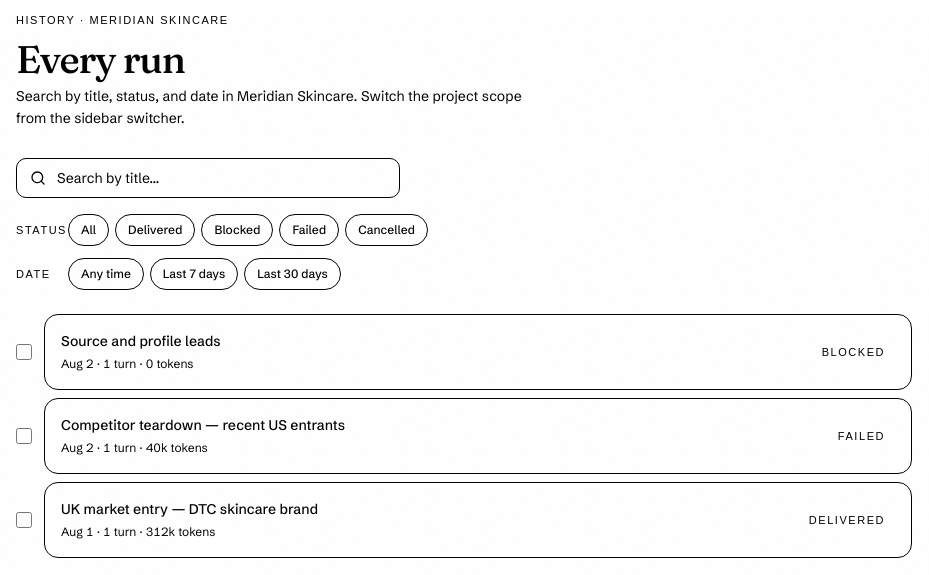
Test: HistoryPage › filters by status
Click the radio button labelled "Blocked": point(238, 230) [202, 214, 274, 246]
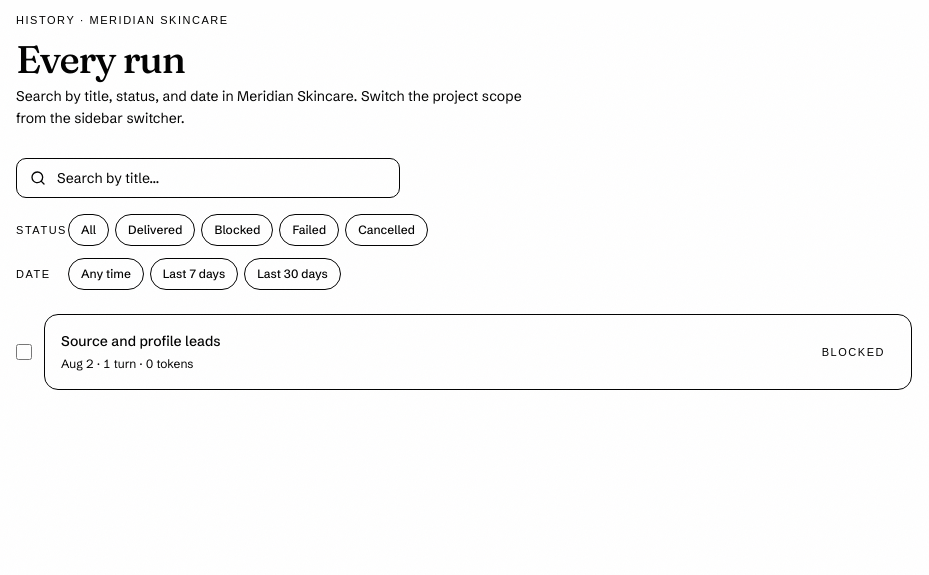
Expected: the text "Source and profile leads" is shown, [61, 332, 220, 350]
Result: the link "UK market entry — DTC skincare brand" is gone
Result: the link "Competitor teardown — recent US entrants" is gone
